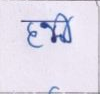i_matra: (57, 12, 74, 45)
